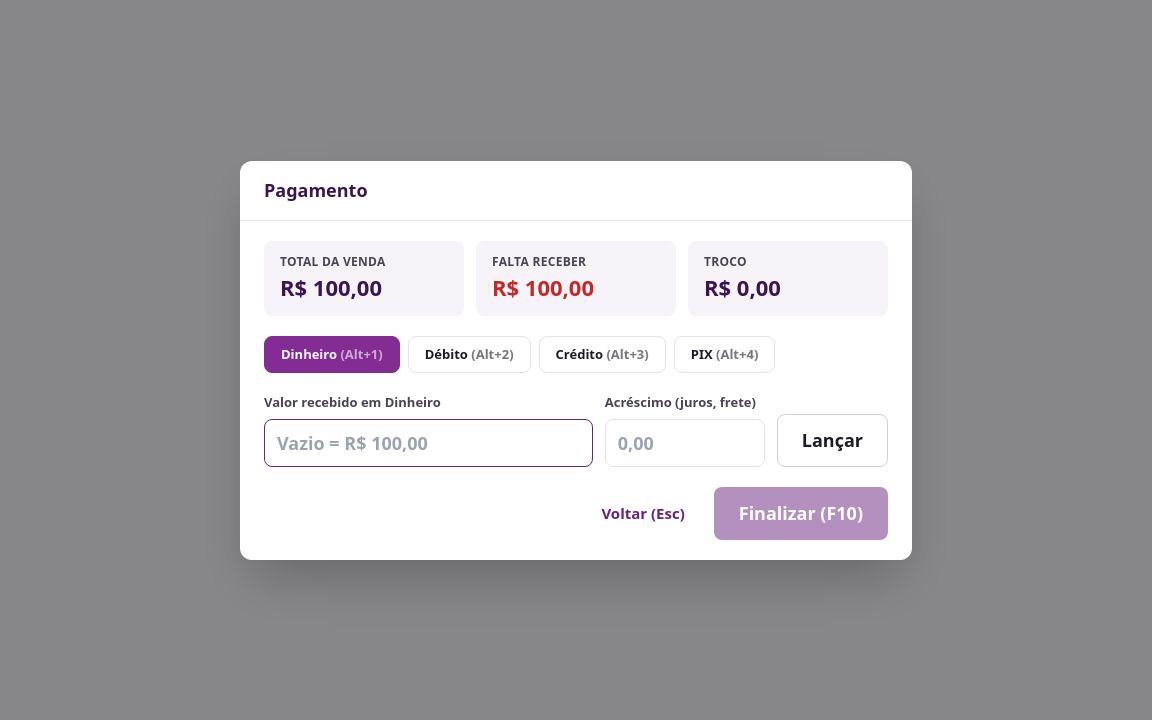
Test case: o campo de valor fala a mesma língua do resto do PDV › "50" é cinquenta reais, e não cinquenta centavos
This screenshot has width=1152, height=720.
Check: the button "PIX (Alt+4)" is shown, box [674,336,775,373]
Type "50" into the field labelled "Valor recebido em Dinheiro" at (428, 442), box [264,418,593,466]
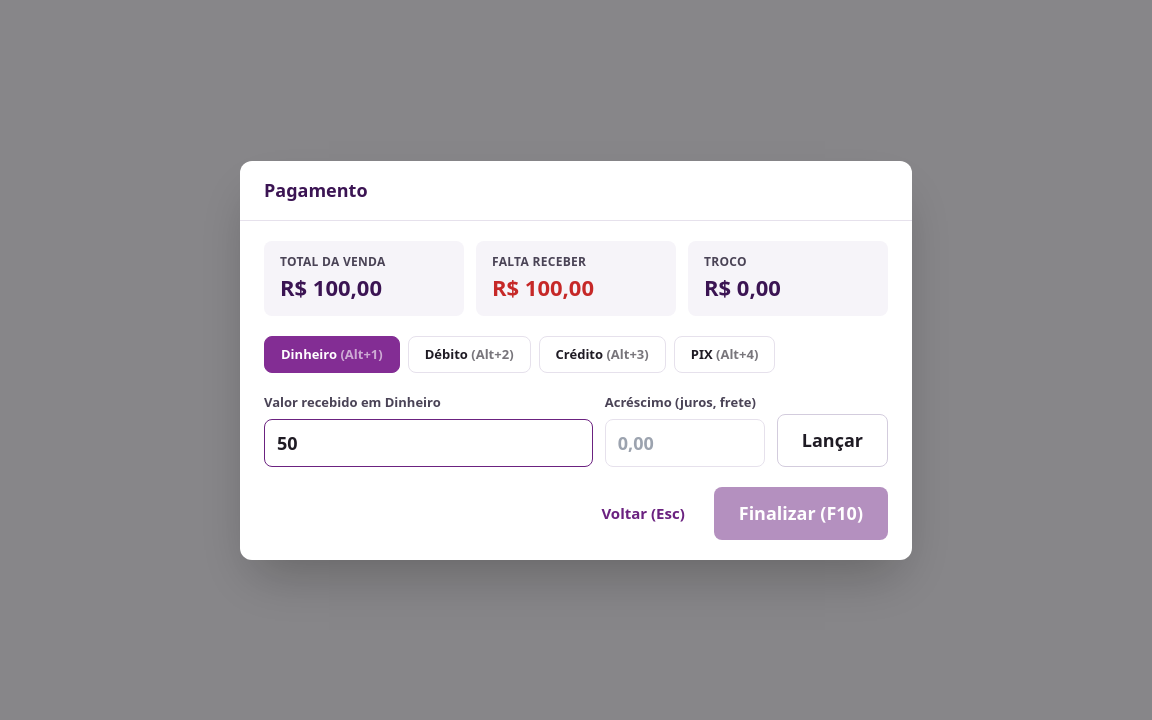
Click the button "Lançar" at (832, 440), box [777,414,888,466]
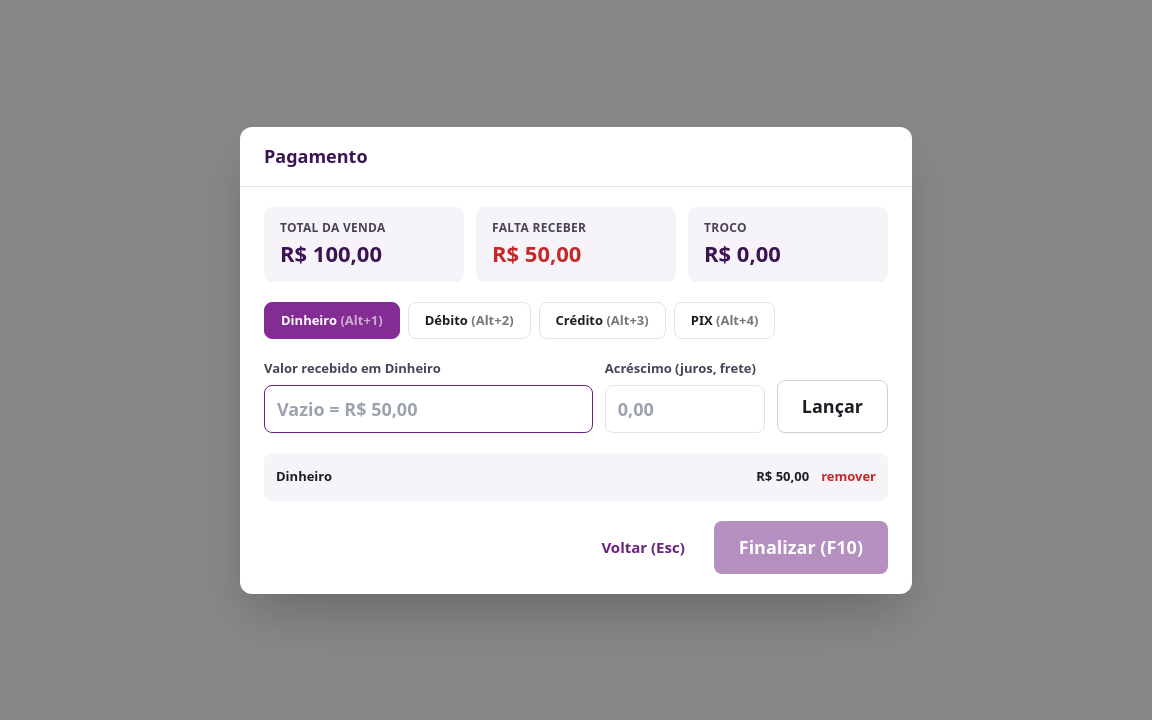
Check: the button "Finalizar (F10)" is disabled, box [714,520,888,574]
Check: the text "R$ 50,00" below "Falta receber" is shown, box [492,238,581,268]
